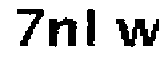7: (12, 5, 47, 50)
I: (83, 4, 106, 52)
n: (46, 14, 79, 51)
w: (112, 12, 159, 51)
